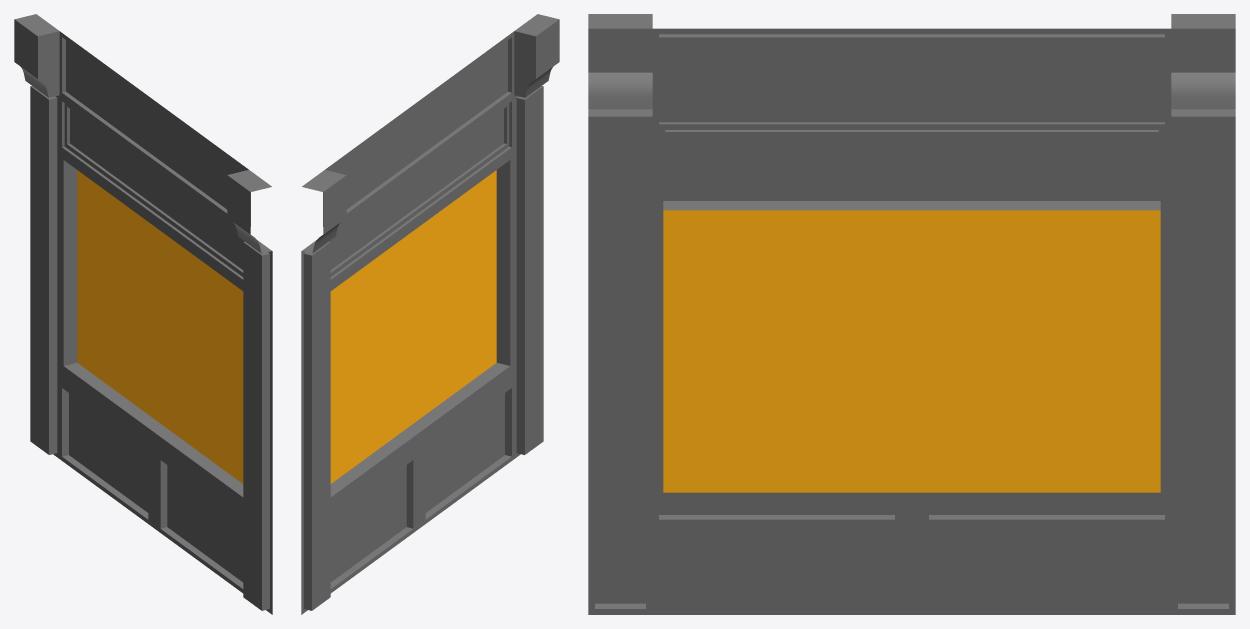
Rendered from O2_Facade_Graande_Vitrine.fbx.
3 renders of one model, left to right at view 1: azimuth 30°, elevation 25°; view 2: azimuth 150°, elevation 25°; view 3: azimuth 270°, elevation 25°, orthographic. The views are drawn at different scales.
Parts seen in each view (by area): view 1: O_Facade_Graande_Vitrine; view 2: O_Facade_Graande_Vitrine; view 3: O_Facade_Graande_Vitrine.
Part boxes in pixels (box(x1,y1,x2,y2)): O_Facade_Graande_Vitrine: box(14, 14, 272, 614); O_Facade_Graande_Vitrine: box(301, 14, 559, 614); O_Facade_Graande_Vitrine: box(588, 14, 1235, 614).
Bounding box in the file's own units: 0.2601 × 3 × 3.
